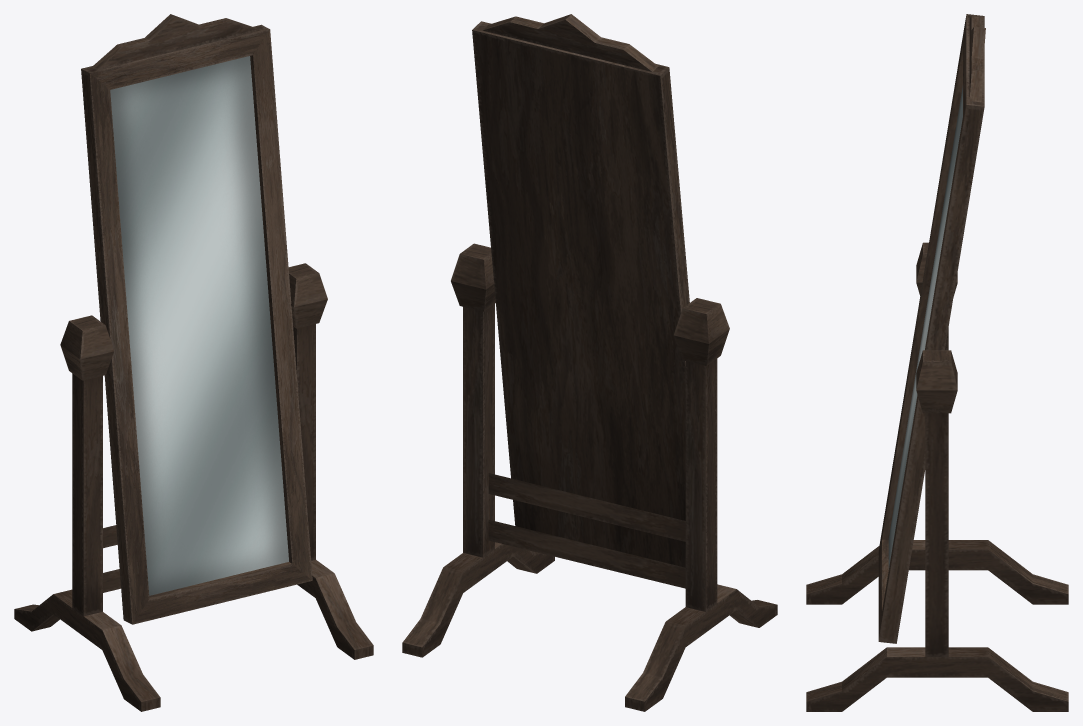
File: Mirror.fbx
3 renders of one model, left to right at view 1: azimuth 30°, elevation 25°; view 2: azimuth 150°, elevation 25°; view 3: azimuth 270°, elevation 25°, orthographic. The views are drawn at different scales.
Visible parts, largest first — view 1: Mirror; view 2: Mirror; view 3: Mirror.
Part boxes in pixels (x1,y1,x2,y2): Mirror: (14, 14, 373, 711); Mirror: (402, 14, 777, 711); Mirror: (806, 14, 1068, 711).
Bounding box in the file's own units: 80.09 × 188 × 71.24.
